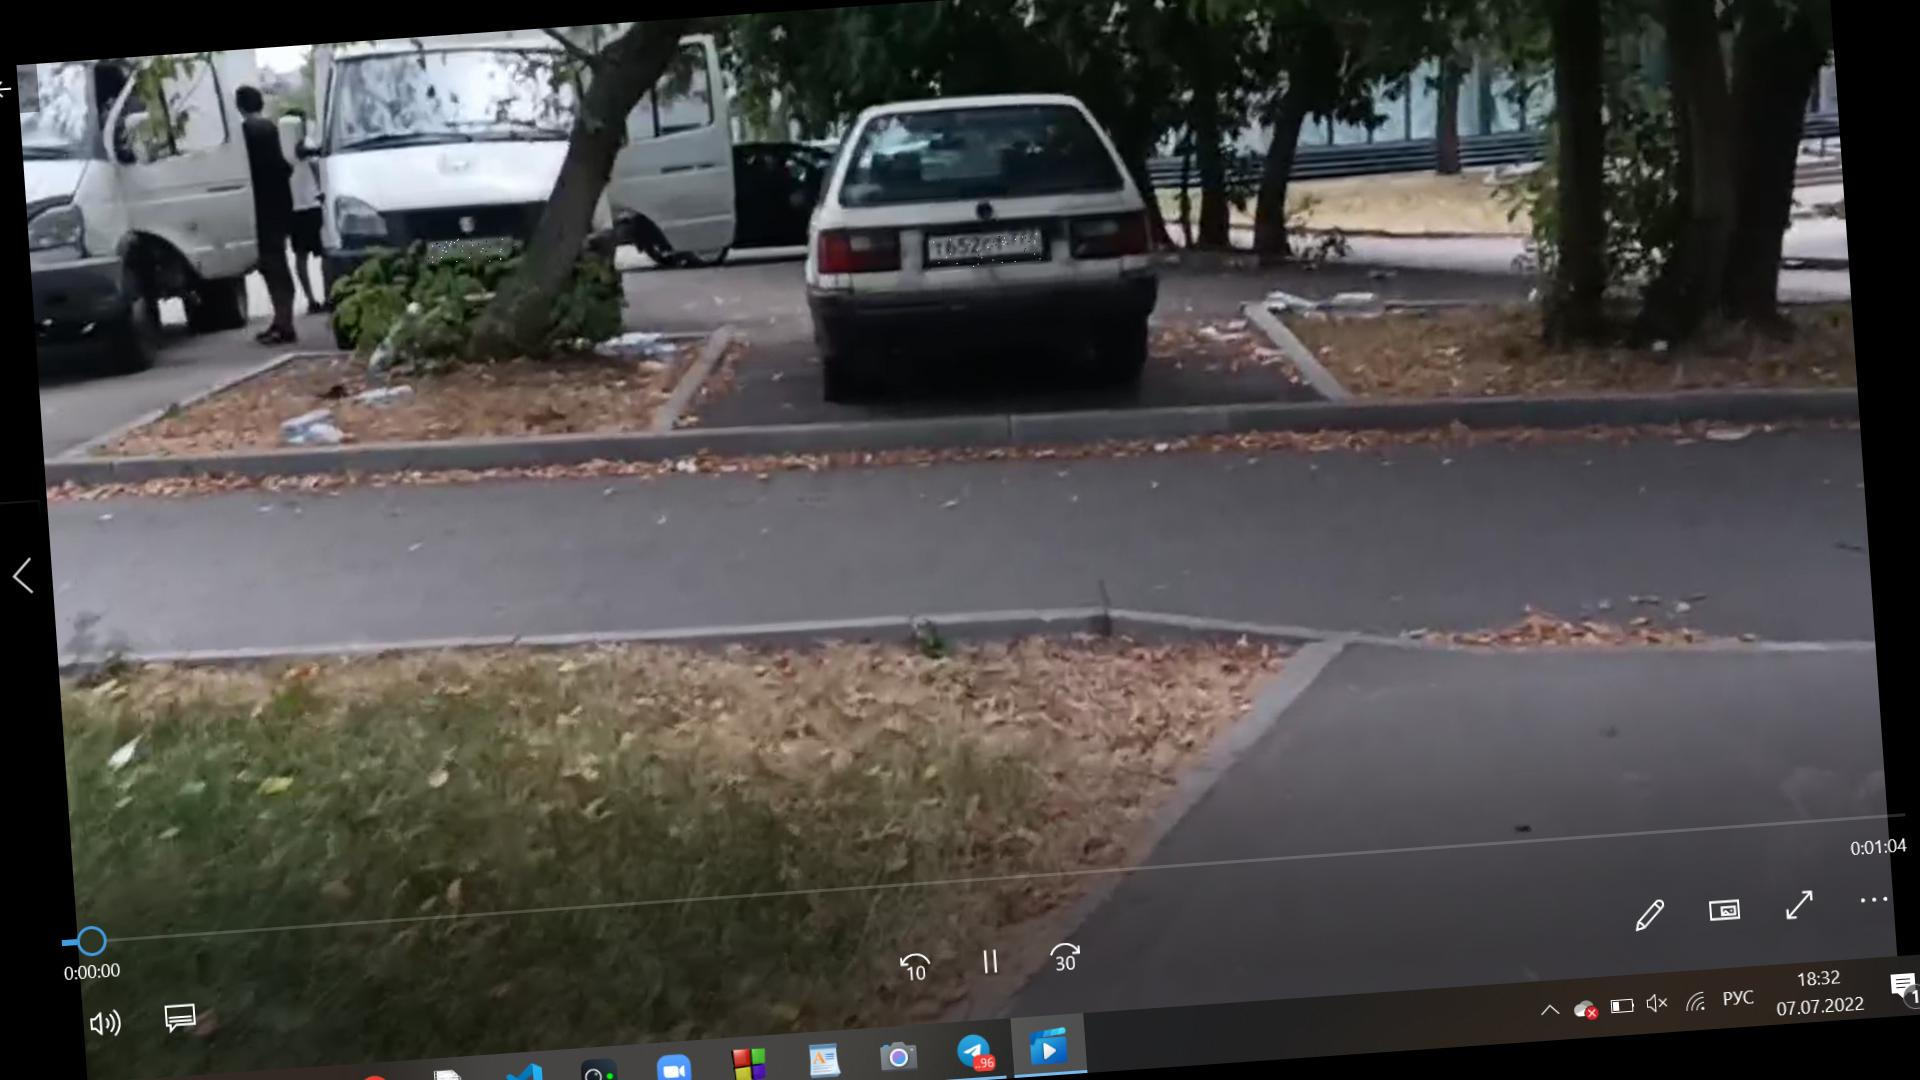plate: (932, 235, 1043, 272), (427, 236, 519, 267)
